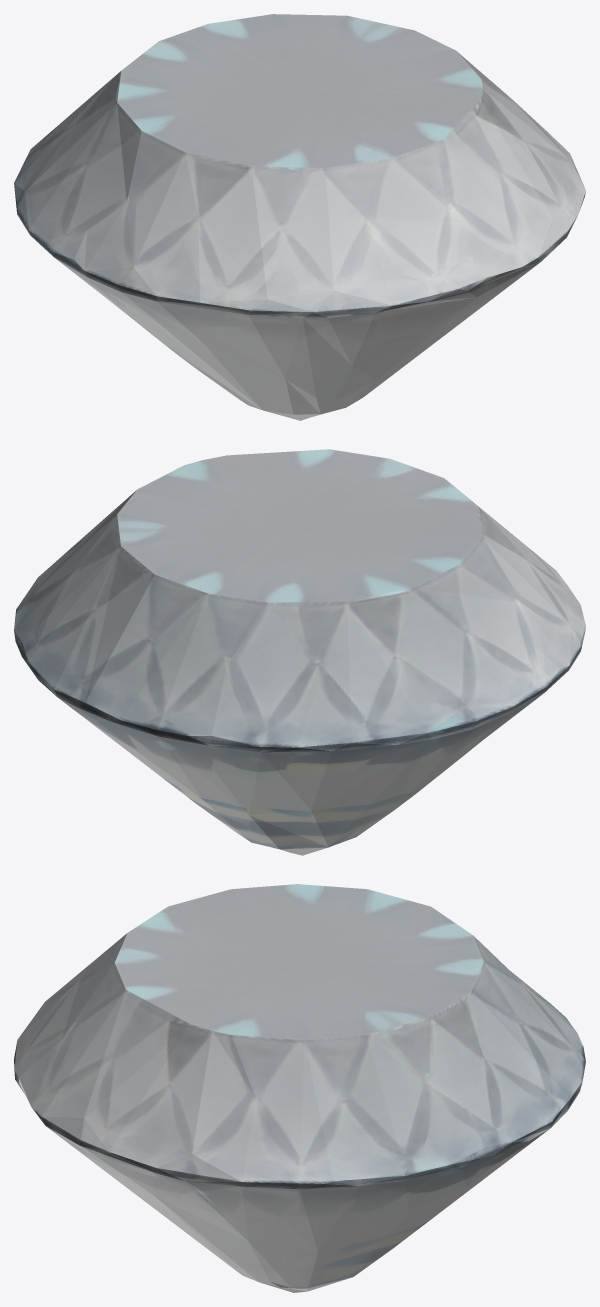
Rendered from crystal_gem_optimized.glb.
3 renders of one model, top to bottom at view 1: azimuth 30°, elevation 25°; view 2: azimuth 150°, elevation 25°; view 3: azimuth 270°, elevation 25°, orthographic.
Size of the model in its own units: 0.9998 by 0.6335 by 0.9967.
1 material, 1 textured.
